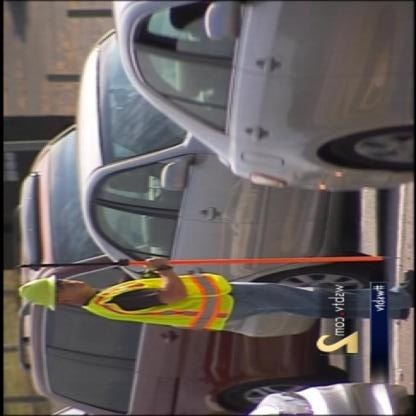vest: (83, 267, 235, 334)
yellow: (15, 269, 62, 314)
